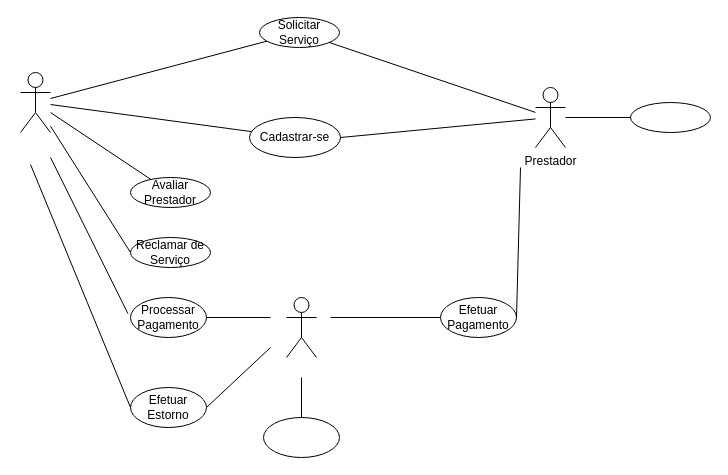
Image size: 728x475. Some labels were removed from this diagram. Each missing label, with the centre of its shape:
Administrador: (x=301, y=327)
Cliente: (x=35, y=102)
Realizar Serviço: (x=670, y=117)
Verificar Reclamações: (x=301, y=437)
